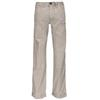abbigliamento_uomo: (32, 3, 67, 96)
